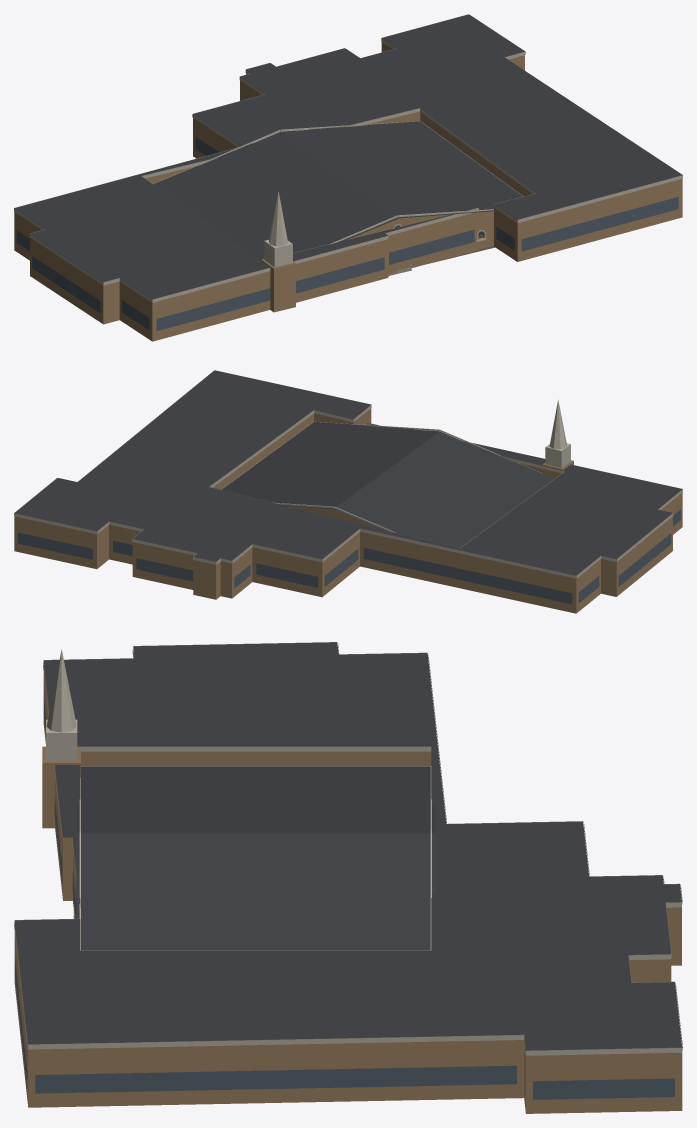
File: church-unnamed-bo270192195.glb
The picture shows the model from 3 angles, top to bottom: view 1: azimuth 30°, elevation 25°; view 2: azimuth 150°, elevation 25°; view 3: azimuth 270°, elevation 25°; orthographic projection. The views are drawn at different scales.
Parts seen in each view (by area): view 1: church_unnamed_bo270192195; view 2: church_unnamed_bo270192195; view 3: church_unnamed_bo270192195.
Boxes of the visible parts, x1=… form: church_unnamed_bo270192195: x1=14, y1=14, x2=682, y2=341; church_unnamed_bo270192195: x1=14, y1=370, x2=682, y2=613; church_unnamed_bo270192195: x1=14, y1=642, x2=682, y2=1113.
Size of the model in its own units: 80.25 by 16 by 55.49.
